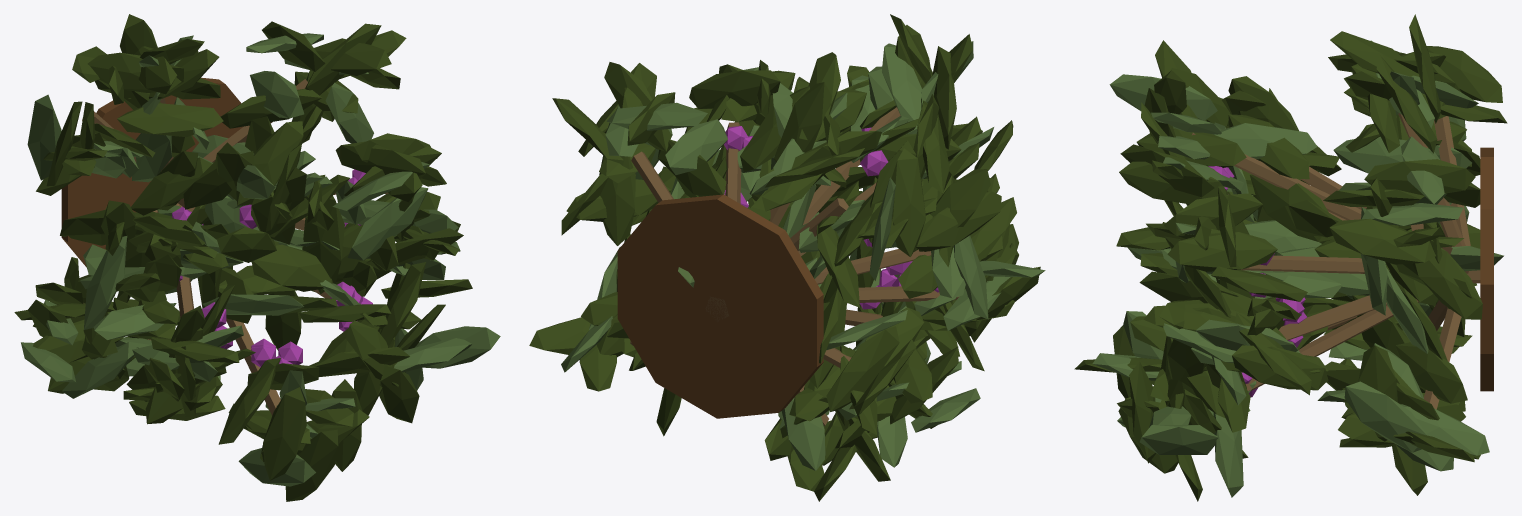
File: 5_mature_full.obj
The picture shows the model from 3 angles, left to right: view 1: azimuth 30°, elevation 25°; view 2: azimuth 150°, elevation 25°; view 3: azimuth 270°, elevation 25°; orthographic projection. The views are drawn at different scales.
Parts seen in each view (by area): view 1: 5_mature_full; view 2: 5_mature_full; view 3: 5_mature_full.
Boxes of the visible parts, x1,y1,x2,y2 form: 5_mature_full: (14,14,500,501); 5_mature_full: (529,14,1045,501); 5_mature_full: (1074,14,1507,501).
Size of the model in its own units: 0.6981 by 0.6962 by 0.629.
